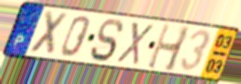0: (59, 14, 92, 59)
3: (179, 29, 213, 74)
H: (144, 21, 193, 73)
S: (88, 17, 126, 63)
X: (26, 9, 71, 58), (114, 20, 155, 67)
